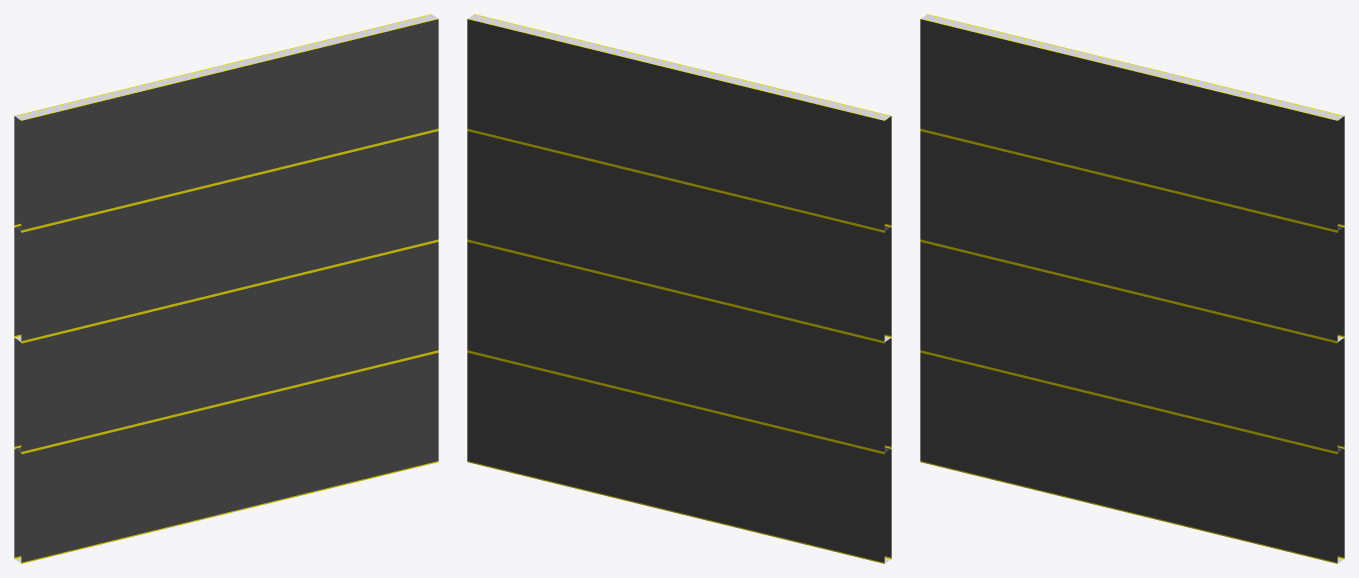
Rendered from NightWispHD.fbx.
3 renders of one model, left to right at view 1: azimuth 30°, elevation 25°; view 2: azimuth 150°, elevation 25°; view 3: azimuth 330°, elevation 25°, orthographic.
Visible parts, largest first — view 1: Plane.004, Plane.001, Plane.002, Plane.003; view 2: Plane.004, Plane.001, Plane.002, Plane.003; view 3: Plane.004, Plane.001, Plane.002, Plane.003.
Part boxes in pixels (x1,y1,x2,y2): Plane.004: (14, 14, 438, 231); Plane.001: (14, 351, 438, 563); Plane.002: (14, 240, 438, 452); Plane.003: (14, 130, 438, 342); Plane.004: (467, 14, 891, 231); Plane.001: (467, 351, 891, 563); Plane.002: (467, 240, 891, 452); Plane.003: (467, 130, 891, 342); Plane.004: (920, 14, 1344, 231); Plane.001: (920, 351, 1344, 563); Plane.002: (920, 240, 1344, 452); Plane.003: (920, 130, 1344, 342).
Size of the model in its own units: 690 by 700 by 20.
